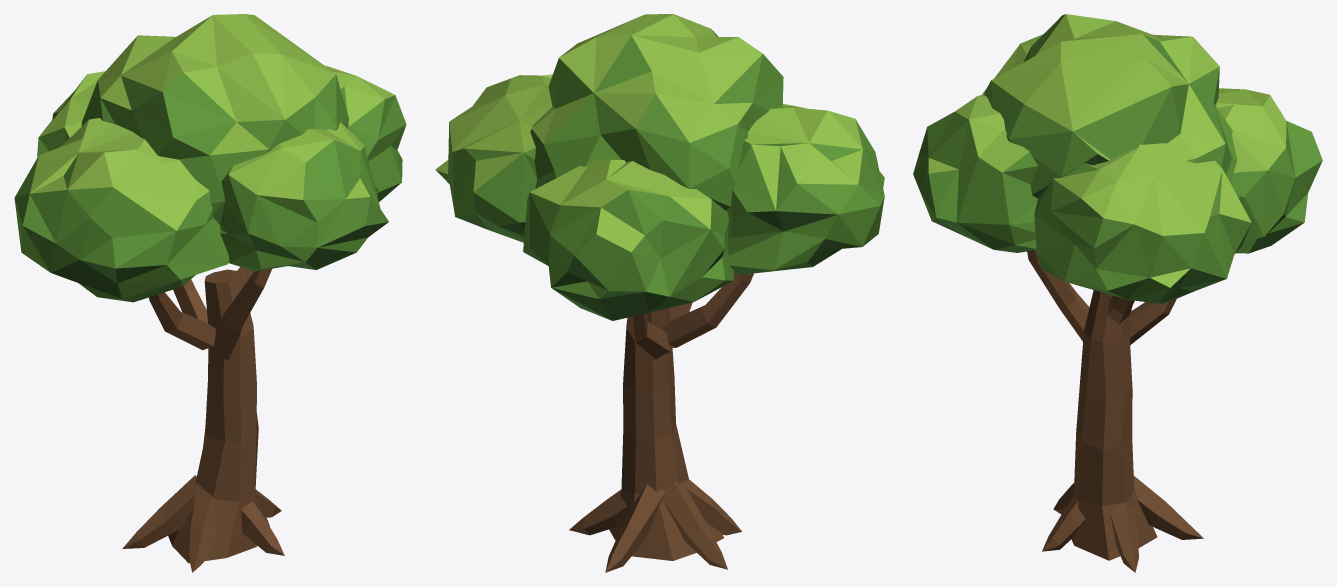
Rendered from Veg_Eiche_A.fbx.
3 views of the same model, side by side, from view 1: azimuth 30°, elevation 25°; view 2: azimuth 150°, elevation 25°; view 3: azimuth 270°, elevation 25° (orthographic).
Visible parts, largest first — view 1: Veg_Eiche_A; view 2: Veg_Eiche_A; view 3: Veg_Eiche_A.
Boxes of the visible parts, x1,y1,x2,y2 form: Veg_Eiche_A: (14,14,406,572); Veg_Eiche_A: (435,14,884,572); Veg_Eiche_A: (913,14,1322,572).
Size of the model in its own units: 4.5 by 5.5 by 4.01.
